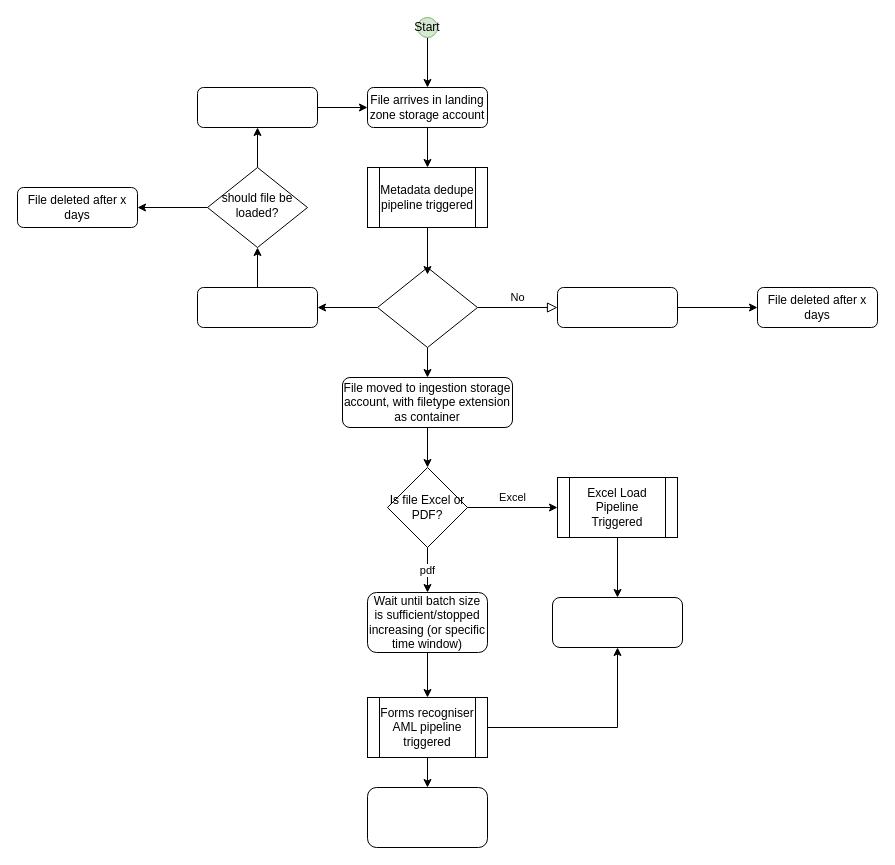
This 895x865 diagram has some shape labels left out. Each missing label, with the centre of its shape:
"File moved to 'exclude' container" belongs at (x=617, y=307).
"File moved to 'quarantine' container" belongs at (x=257, y=307).
"Is file 'unique'?" belongs at (x=427, y=307).
"Json and Csv Files Output" belongs at (x=427, y=817).
"Original file moved to long term storage account" belongs at (x=617, y=622).
"Remedial action taken on file" belongs at (x=257, y=107).
